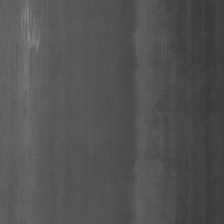silk_spot: (16, 5, 44, 63)
